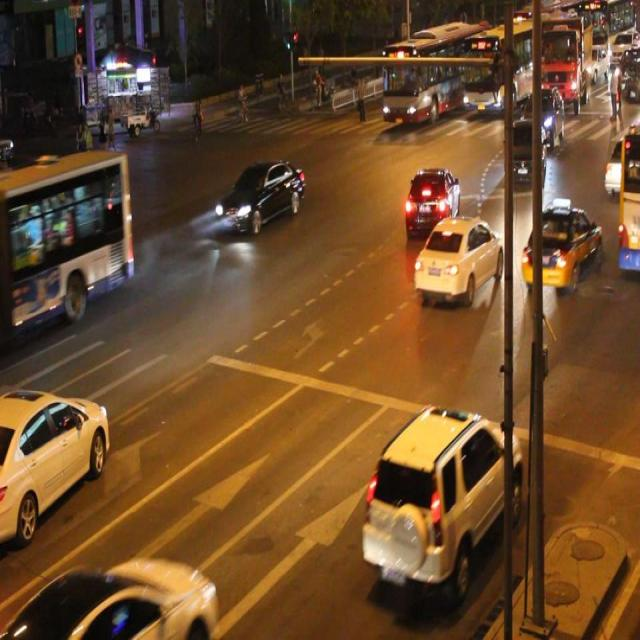car: (364, 405, 522, 581), (12, 556, 219, 640), (1, 386, 108, 537), (413, 216, 502, 300), (520, 206, 600, 288), (217, 159, 304, 233), (403, 167, 460, 240), (502, 120, 544, 187)
van: (1, 150, 132, 328)
